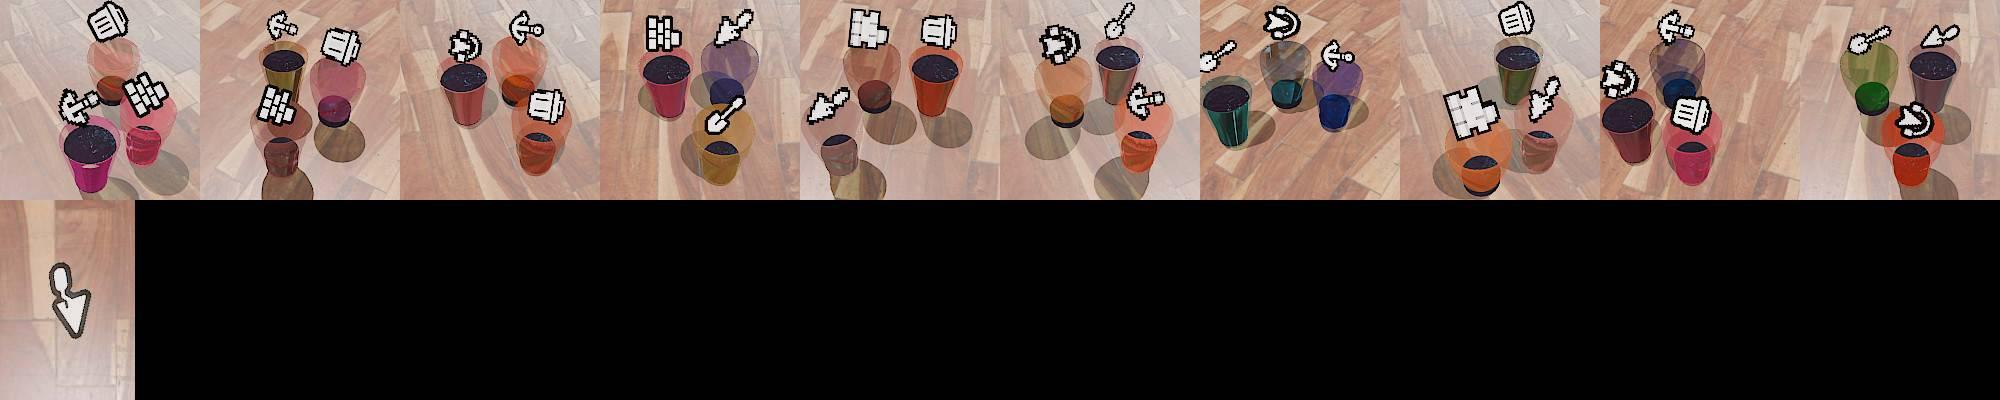icon: (47, 261, 92, 341), (1441, 83, 1500, 140), (121, 70, 170, 118), (57, 85, 105, 127), (704, 88, 745, 136), (847, 8, 892, 51), (1527, 74, 1564, 124), (87, 1, 129, 45), (1038, 22, 1080, 65), (320, 25, 362, 68), (1670, 93, 1713, 134), (805, 87, 849, 125), (255, 84, 296, 125), (714, 8, 756, 47), (1599, 59, 1639, 101), (645, 14, 684, 54), (1125, 82, 1165, 120), (1263, 4, 1302, 42), (1656, 9, 1696, 46), (527, 87, 568, 124), (1894, 99, 1934, 136), (1497, 0, 1536, 37), (1848, 24, 1894, 55), (920, 14, 958, 50), (509, 9, 545, 47), (448, 27, 483, 64), (1102, 1, 1136, 39), (1200, 38, 1236, 74), (1319, 38, 1355, 70), (265, 10, 300, 42), (1920, 22, 1960, 48)
